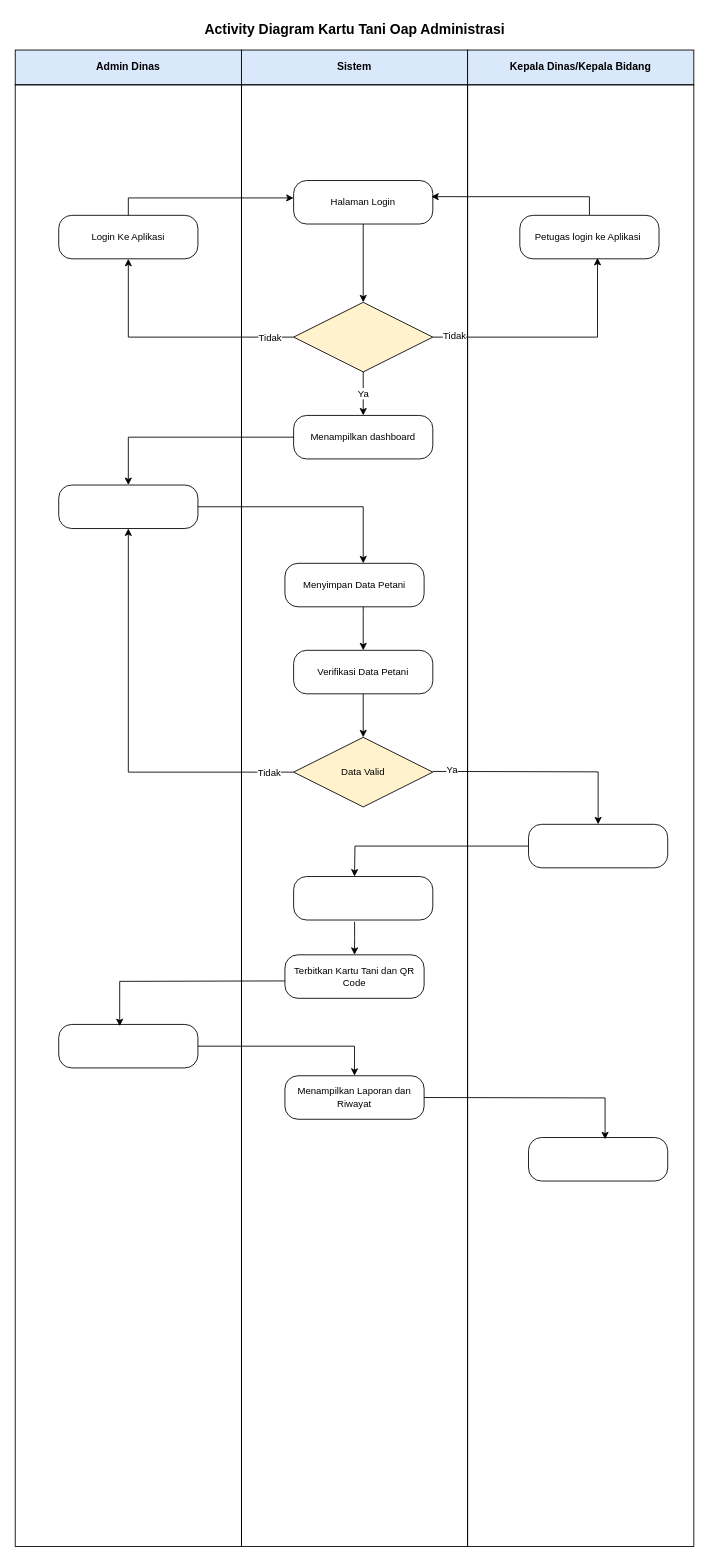
Image size: 709x1562. Some labels were removed from this diagram. Each missing label, with the centre of its shape:
"Input Data Petani" goes at point (128, 506).
"Login berhasil?" goes at point (363, 336).
"Melihat Laporan" goes at point (598, 1159).
"Menetapkan Penerima bantuan" goes at point (598, 845).
"Menyimpan Penetapan Penerima" goes at point (363, 898).
"Monitoring dan Laporan Penggunaan Kartu Tani" goes at point (128, 1046).
